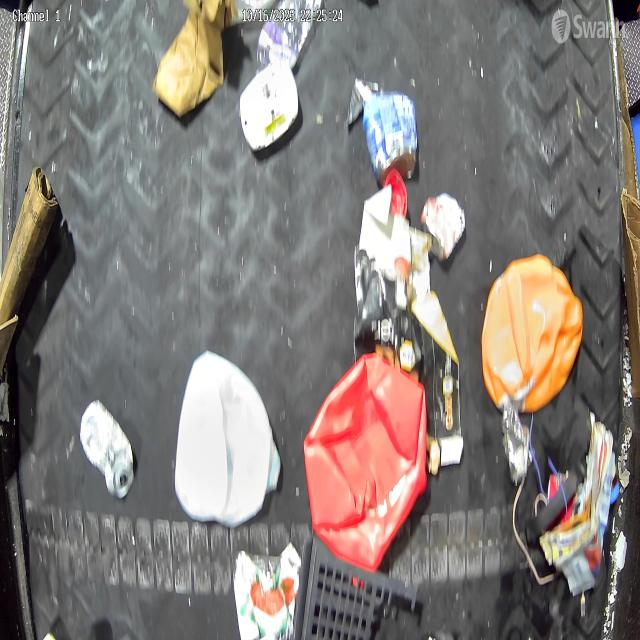can: (80, 397, 137, 502), (363, 91, 419, 186), (422, 192, 466, 264)
milk_jug: (175, 350, 281, 530)
non_white_jug: (303, 352, 428, 573), (481, 252, 583, 414)
plastic_bottle: (256, 0, 320, 75)
